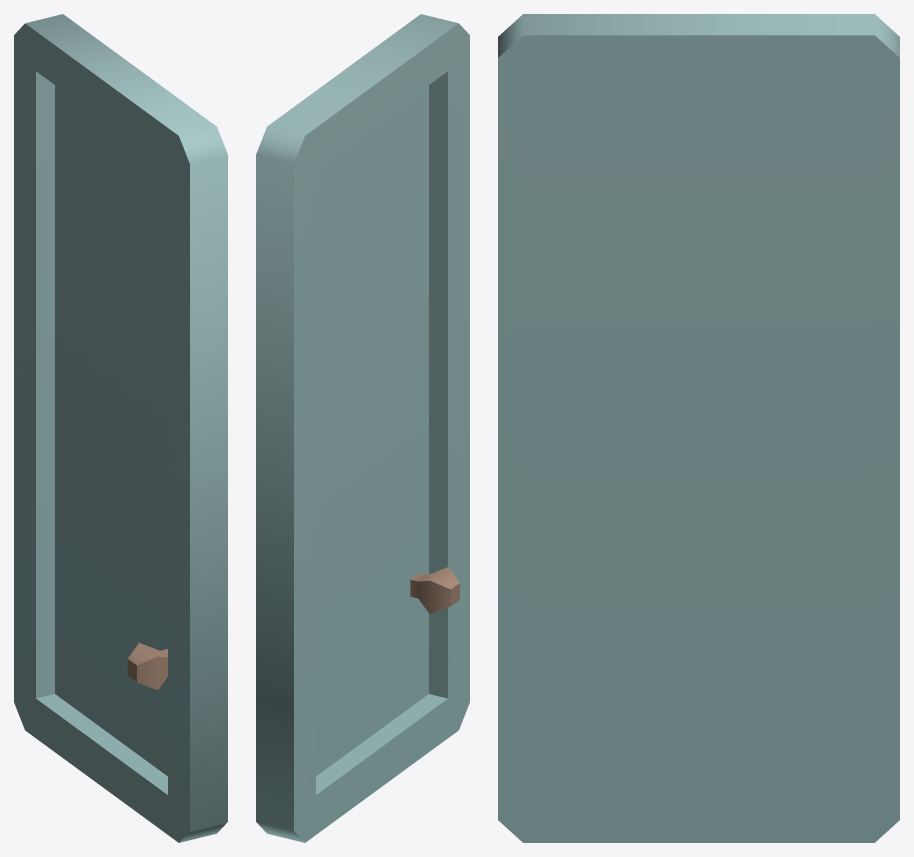
The model's file is (%no-merge) (%open-left) (%low) 5.glb.
3 views of the same model, side by side, from view 1: azimuth 30°, elevation 25°; view 2: azimuth 150°, elevation 25°; view 3: azimuth 270°, elevation 25° (orthographic). The views are drawn at different scales.
Parts seen in each view (by area): view 1: (%no-merge) (%open-left) (%low) 5(Clone); view 2: (%no-merge) (%open-left) (%low) 5(Clone); view 3: (%no-merge) (%open-left) (%low) 5(Clone).
Boxes of the visible parts, x1=… form: (%no-merge) (%open-left) (%low) 5(Clone): x1=14, y1=14, x2=227, y2=842; (%no-merge) (%open-left) (%low) 5(Clone): x1=256, y1=14, x2=469, y2=842; (%no-merge) (%open-left) (%low) 5(Clone): x1=498, y1=14, x2=899, y2=842.
Bounding box in the file's own units: 0.0782 × 0.8875 × 0.4.
